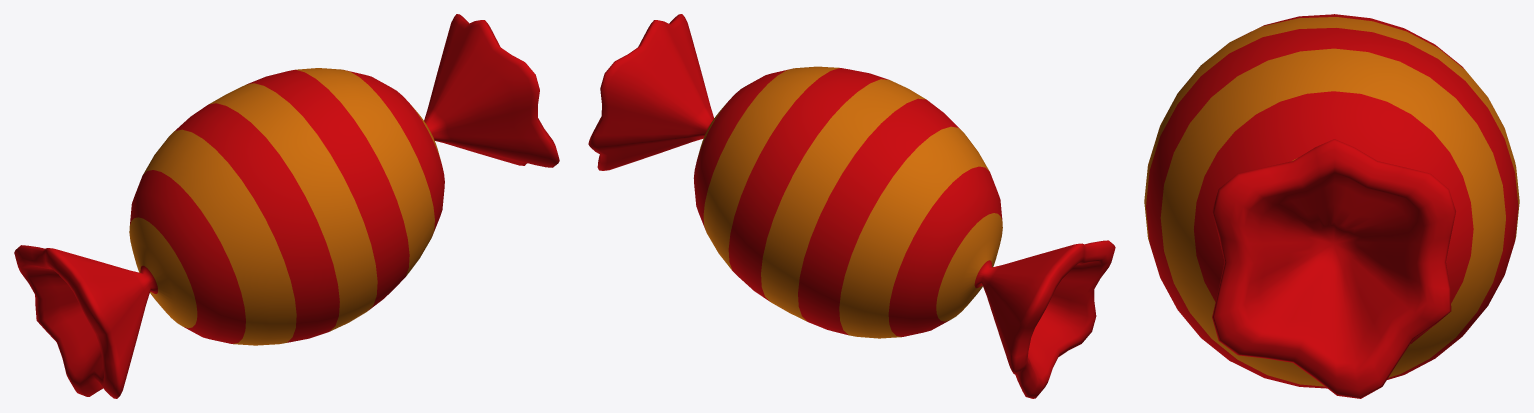
The model's file is candy 1.obj.
3 renders of one model, left to right at view 1: azimuth 30°, elevation 25°; view 2: azimuth 150°, elevation 25°; view 3: azimuth 270°, elevation 25°, orthographic. The views are drawn at different scales.
Visible parts, largest first — view 1: Cylinder.019_Cylinder.023; view 2: Cylinder.019_Cylinder.023; view 3: Cylinder.019_Cylinder.023.
Boxes of the visible parts, box(x1,y1,x2,y2) form: Cylinder.019_Cylinder.023: box(14, 14, 559, 398); Cylinder.019_Cylinder.023: box(588, 14, 1115, 398); Cylinder.019_Cylinder.023: box(1144, 14, 1519, 398).
Bounding box in the file's own units: 2.9 × 1.64 × 1.36.
